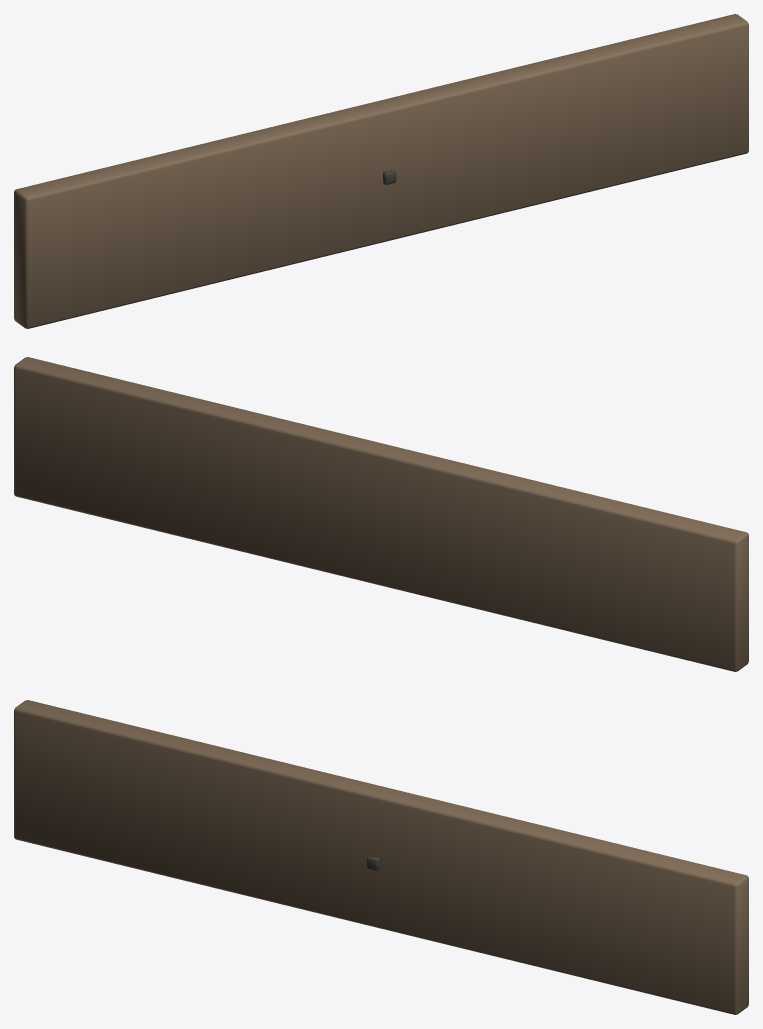
File: dir_board_0.glb
The picture shows the model from 3 angles, top to bottom: view 1: azimuth 30°, elevation 25°; view 2: azimuth 150°, elevation 25°; view 3: azimuth 330°, elevation 25°; orthographic projection.
Parts seen in each view (by area): view 1: g_signbrown; view 2: g_signbrown; view 3: g_signbrown.
Boxes of the visible parts, x1,y1,x2,y2 form: g_signbrown: (14, 14, 748, 328); g_signbrown: (14, 357, 748, 671); g_signbrown: (14, 700, 748, 1014).
Bounding box in the file's own units: 1.55 × 0.27 × 0.061.
